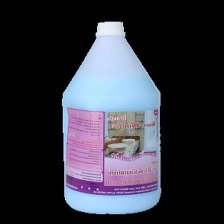cleaning_solution: (59, 15, 164, 216)
